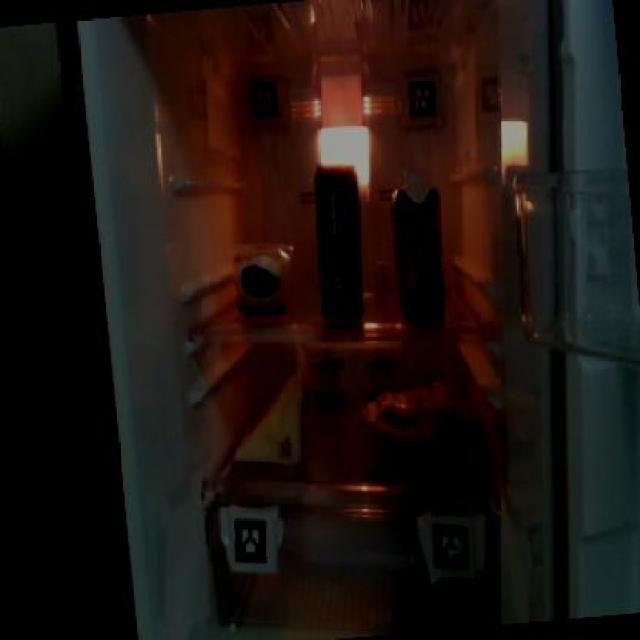bento: (354, 384, 484, 470)
energy_drink: (307, 160, 371, 328)
pudding: (228, 233, 298, 318)
sandwich: (227, 360, 316, 474)
smoothie: (385, 165, 450, 322)
